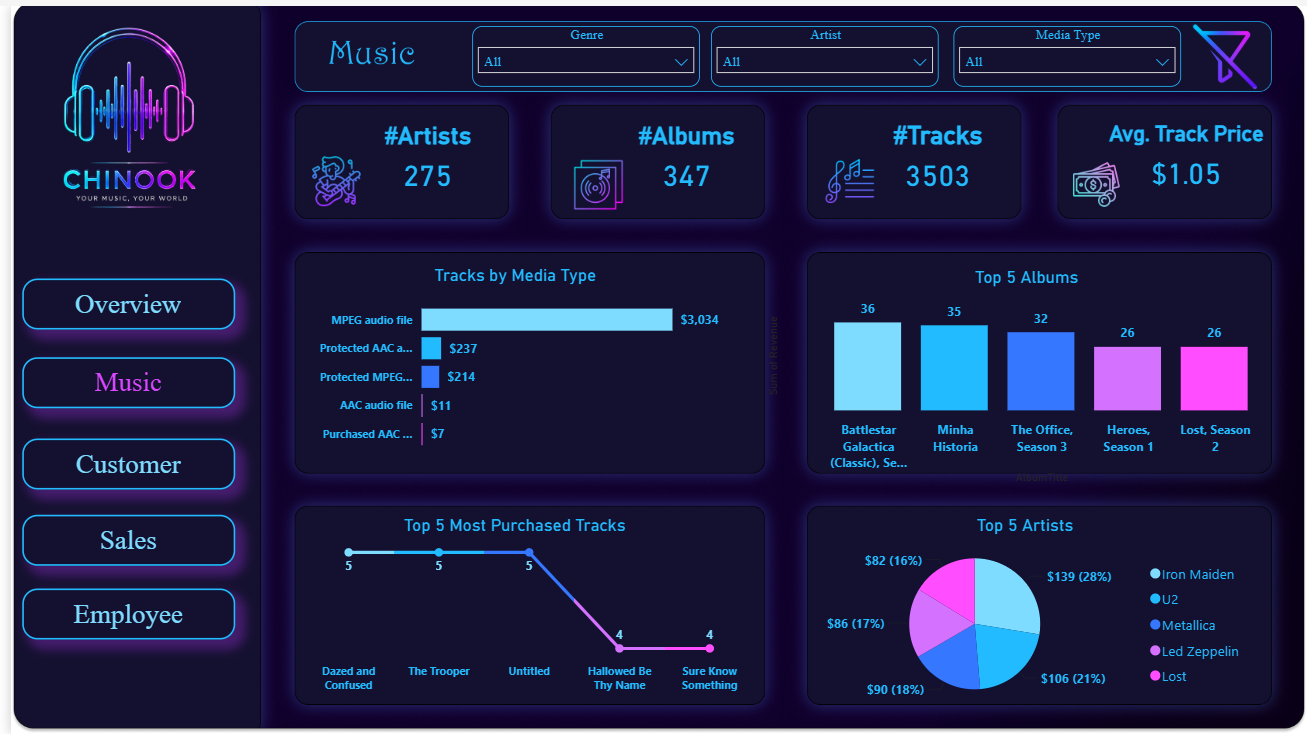

This screenshot's page, from the dashboard's own definition file:
{"tool":"powerbi","page":{"name":"Music","canvas":[1280,720],"ordinal":1},"visuals":[{"type":"image","box":[0,0,234.6,227.8],"z":0},{"type":"card","title":"#Artists","fields":{"Values":["Dax.Total Artists"]},"box":[335.4,113.4,152,77.2],"z":1000},{"type":"image","box":[292.3,148.2,57.6,49.4],"z":2000},{"type":"card","title":"#Albums","fields":{"Values":["Dax.Total Albums"]},"box":[591.2,113.4,152,77.2],"z":3000},{"type":"image","box":[551.3,152,56.7,49.5],"z":4000},{"type":"card","title":"#Tracks","fields":{"Values":["Dax.Total Tracks"]},"box":[839.7,113.4,152,77.2],"z":5000},{"type":"image","box":[799.9,148.4,56.7,49.5],"z":6000},{"type":"card","title":"Avg. Track Price","fields":{"Values":["Dax.Average Track Price"]},"box":[1077.4,113.4,166.5,77.2],"z":7000},{"type":"image","box":[1043.5,152.4,57,49.6],"z":8000},{"type":"pieChart","title":"Top 5 Artists","fields":{"Category":["Top 5 Artists.ArtistName"],"Y":["Sum(Top 5 Artists.Revenue)"]},"box":[775.7,501.9,452.4,196.6],"z":9000},{"type":"clusteredColumnChart","title":"Top 5 Albums ","fields":{"Category":["Top 5 Albums.AlbumTitle"],"Y":["Sum(Top 5 Albums.Revenue)"]},"box":[743.2,258.2,520,218.4],"z":10000},{"type":"lineChart","title":"Top 5 Most Purchased Tracks","fields":{"Category":["Top 5 Most Purchased Tracks.TrackName"],"Y":["Sum(Top 5 Most Purchased Tracks.TotalSold)"]},"box":[258.2,501.9,479,183.4],"z":11000},{"type":"actionButton","title":" Overview","box":[11,269,210,50],"z":12000},{"type":"actionButton","title":"Music","box":[11,347.2,210,50],"z":13000},{"type":"actionButton","title":"Customer","box":[11,426.8,210,50],"z":14000},{"type":"actionButton","title":"Sales","box":[11,502.2,210,50],"z":15000},{"type":"actionButton","title":"Employee","box":[11,575,210,50],"z":16000},{"type":"slicer","title":"Genre","fields":{"Values":["genre.Name"]},"box":[455,20,225,60],"z":17000},{"type":"slicer","title":"Artist","fields":{"Values":["artist.Name"]},"box":[691.2,20,225,60],"z":18000},{"type":"slicer","title":"Media Type","fields":{"Values":["mediatype.Name"]},"box":[931.2,20,225,60],"z":19000},{"type":"image","box":[1160.6,14.5,77.2,70],"z":20000},{"type":"barChart","title":"Tracks by Media Type","fields":{"Category":["Tracks by Media Type.MediaType"],"Y":["Sum(Tracks by Media Type.TracksCount)"]},"box":[287.1,255.8,421,195.4],"z":21000}]}

Visuals, with their boxes in screenshot pixels (x1, y1, x2, y2), scaled from the page's 1280x720 canvas onto the 1307x734 screenshot:
image: 0:0:240:232
"#Artists" card: 342:116:498:194
image: 298:151:357:201
"#Albums" card: 604:116:759:194
image: 563:155:621:205
"#Tracks" card: 857:116:1013:194
image: 817:151:875:202
"Avg. Track Price" card: 1100:116:1270:194
image: 1066:155:1124:206
"Top 5 Artists" pieChart: 792:512:1254:712
"Top 5 Albums " clusteredColumnChart: 759:263:1290:486
"Top 5 Most Purchased Tracks" lineChart: 264:512:753:699
" Overview" actionButton: 11:274:226:325
"Music" actionButton: 11:354:226:405
"Customer" actionButton: 11:435:226:486
"Sales" actionButton: 11:512:226:563
"Employee" actionButton: 11:586:226:637
"Genre" slicer: 465:20:694:82
"Artist" slicer: 706:20:936:82
"Media Type" slicer: 951:20:1181:82
image: 1185:15:1264:86
"Tracks by Media Type" barChart: 293:261:723:460
